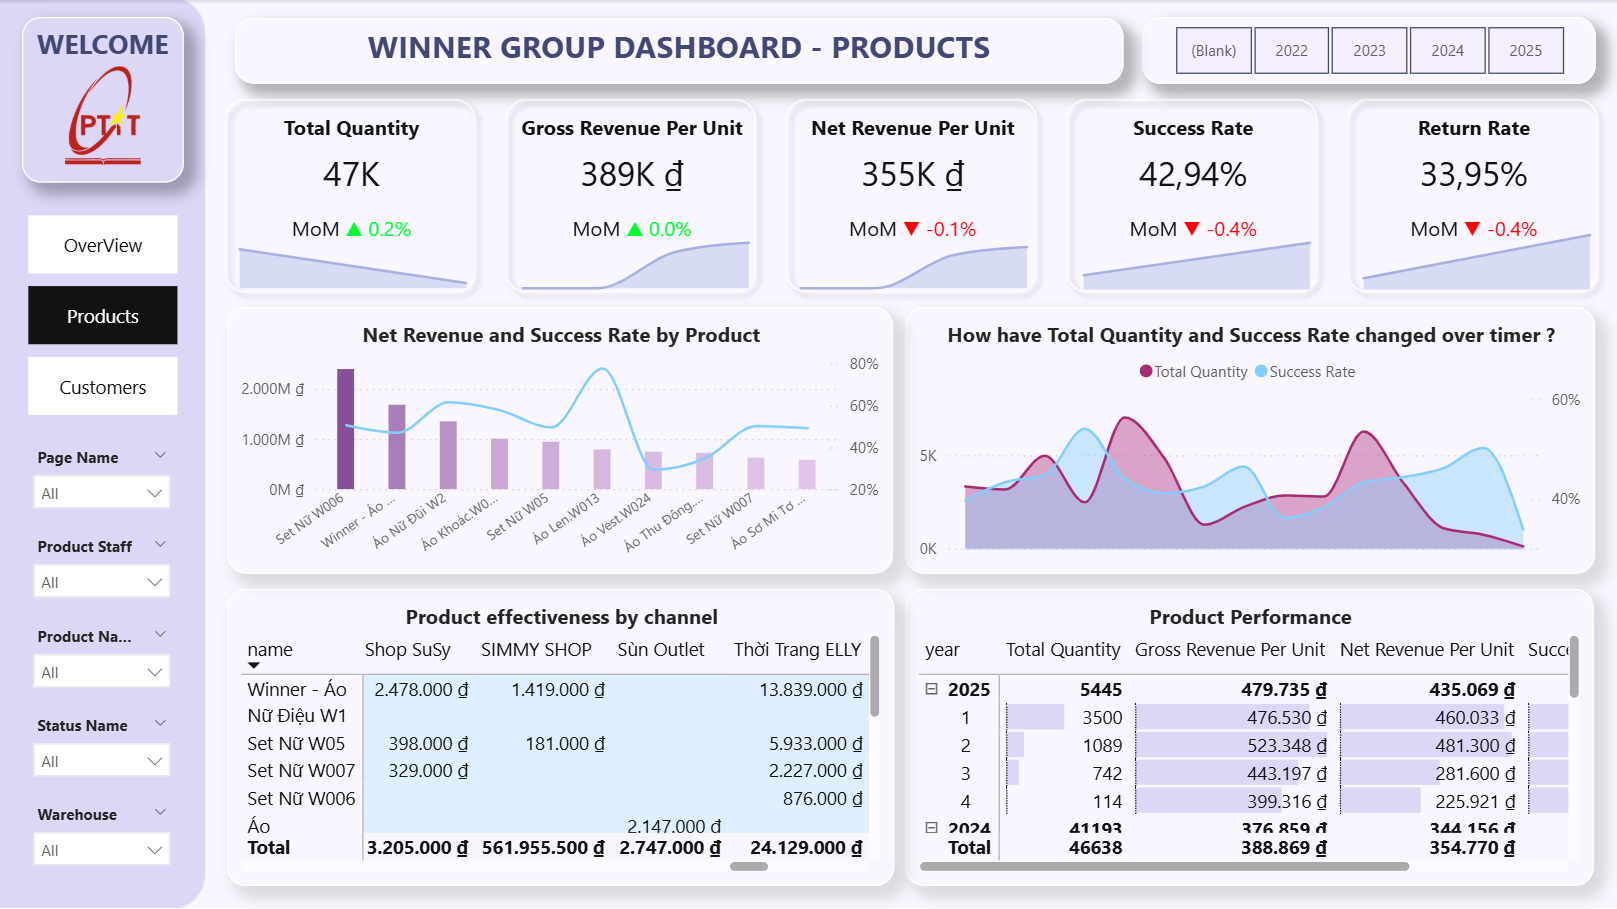

The dashboard page shown, as its layout file describes it:
{"tool":"powerbi","page":{"name":"Products","canvas":[1280,720],"ordinal":1},"visuals":[{"type":"slicer","fields":{"Values":["winner_gold dim_date.year"]},"box":[903.5,13.7,358.7,52.6],"z":0},{"type":"slicer","fields":{"Values":["winner_gold dim_order_pages.page_name"]},"box":[16.7,348.5,127.9,70.4],"z":1000},{"type":"textbox","box":[17.2,13.6,128,130.7],"z":2000},{"type":"pageNavigator","box":[17.2,165.2,128,168.9],"z":3000},{"type":"slicer","fields":{"Values":["winner_gold dim_products.category_name"]},"box":[16.7,418.9,127.9,70.4],"z":4000},{"type":"slicer","fields":{"Values":["winner_gold dim_products.name"]},"box":[16.7,489.4,127.9,70.4],"z":5000},{"type":"slicer","fields":{"Values":["winner_gold fact_orders.status_name"]},"box":[16.7,559.8,127.9,70.4],"z":6000},{"type":"slicer","fields":{"Values":["winner_gold dim_order_warehouses.warehouse_name.2"]},"box":[16.7,630.3,127.9,70.4],"z":7000},{"type":"textbox","box":[186.1,14.3,702.7,51.5],"z":8000},{"type":"cardVisual","fields":{"Data":["Product_Measures.Total Quantity","Product_Measures.Gross Revenue Per Unit","Product_Measures.Net Revenue Per Unit","Overview_Measures.Success Rate","Product_Measures.Return Rate"]},"box":[166.2,66.1,1113.8,177.2],"z":9000},{"type":"image","box":[17.2,39.9,128,104.4],"z":10000},{"type":"areaChart","fields":{"Category":["winner_gold dim_date.year"],"Y":["Product_Measures.Total Quantity"]},"box":[179.3,173.8,199.1,54.9],"z":11000},{"type":"lineChart","title":"How have Total Quantity and Success Rate changed over timer ?","fields":{"Category":["winner_gold dim_date.year","winner_gold dim_date.month"],"Y2":["Overview_Measures.Success Rate"],"Y":["Product_Measures.Total Quantity"]},"box":[716.2,242.6,545.7,211.1],"z":12000},{"type":"pivotTable","title":"Product Performance","fields":{"Rows":["winner_gold dim_date.year","winner_gold dim_date.month"],"Values":["Product_Measures.Total Quantity","Product_Measures.Gross Revenue Per Unit","Product_Measures.Net Revenue Per Unit","Overview_Measures.Success Rate","Product_Measures.Return Rate"]},"box":[716.2,466.4,544.8,234.5],"z":13000},{"type":"areaChart","fields":{"Category":["winner_gold dim_date.year"],"Y":["Product_Measures.Gross Revenue Per Unit"]},"box":[403.5,173.8,199.1,54.9],"z":14000},{"type":"areaChart","fields":{"Category":["winner_gold dim_date.year"],"Y":["Product_Measures.Net Revenue Per Unit"]},"box":[623.3,173.8,199.1,54.9],"z":15000},{"type":"areaChart","fields":{"Category":["winner_gold dim_date.year"],"Y":["Overview_Measures.Success Rate"]},"box":[847.6,173.8,199.1,54.9],"z":16000},{"type":"areaChart","fields":{"Category":["winner_gold dim_date.year"],"Y":["Product_Measures.Return Rate"]},"box":[1069.2,173.8,199.1,54.9],"z":17000},{"type":"lineClusteredColumnComboChart","title":"Net Revenue and Success Rate by Product","fields":{"Y":["Overview_Measures.Net Revenue"],"Y2":["Overview_Measures.Success Rate"],"Category":["winner_gold dim_products.name"]},"box":[179.5,242.6,526.8,211.1],"z":18000},{"type":"pivotTable","title":"Product effectiveness by channel","fields":{"Rows":["winner_gold dim_products.name"],"Columns":["winner_gold dim_order_pages.page_name"],"Values":["Overview_Measures.Net Revenue"]},"box":[179.5,466.4,527.7,234.5],"z":19000}]}

Visuals, with their boxes in screenshot pixels (x1, y1, x2, y2), scaled from the page's 1280x720 canvas onto the 1617x909 screenshot:
slicer - winner_gold dim_date.year: pyautogui.locateOnScreen(1141, 17, 1595, 84)
slicer - winner_gold dim_order_pages.page_name: pyautogui.locateOnScreen(21, 440, 183, 529)
textbox: pyautogui.locateOnScreen(22, 17, 183, 182)
pageNavigator: pyautogui.locateOnScreen(22, 209, 183, 422)
slicer - winner_gold dim_products.category_name: pyautogui.locateOnScreen(21, 529, 183, 618)
slicer - winner_gold dim_products.name: pyautogui.locateOnScreen(21, 618, 183, 707)
slicer - winner_gold fact_orders.status_name: pyautogui.locateOnScreen(21, 707, 183, 796)
slicer - winner_gold dim_order_warehouses.warehouse_name.2: pyautogui.locateOnScreen(21, 796, 183, 885)
textbox: pyautogui.locateOnScreen(235, 18, 1123, 83)
cardVisual - Product_Measures.Total Quantity x Product_Measures.Gross Revenue Per Unit: pyautogui.locateOnScreen(210, 83, 1616, 307)
image: pyautogui.locateOnScreen(22, 50, 183, 182)
areaChart - winner_gold dim_date.year x Product_Measures.Total Quantity: pyautogui.locateOnScreen(227, 219, 478, 289)
"How have Total Quantity and Success Rate changed over timer ?" lineChart: pyautogui.locateOnScreen(905, 306, 1594, 573)
"Product Performance" pivotTable: pyautogui.locateOnScreen(905, 589, 1593, 885)
areaChart - winner_gold dim_date.year x Product_Measures.Gross Revenue Per Unit: pyautogui.locateOnScreen(510, 219, 761, 289)
areaChart - winner_gold dim_date.year x Product_Measures.Net Revenue Per Unit: pyautogui.locateOnScreen(787, 219, 1039, 289)
areaChart - winner_gold dim_date.year x Overview_Measures.Success Rate: pyautogui.locateOnScreen(1071, 219, 1322, 289)
areaChart - winner_gold dim_date.year x Product_Measures.Return Rate: pyautogui.locateOnScreen(1351, 219, 1602, 289)
"Net Revenue and Success Rate by Product" lineClusteredColumnComboChart: pyautogui.locateOnScreen(227, 306, 892, 573)
"Product effectiveness by channel" pivotTable: pyautogui.locateOnScreen(227, 589, 893, 885)
